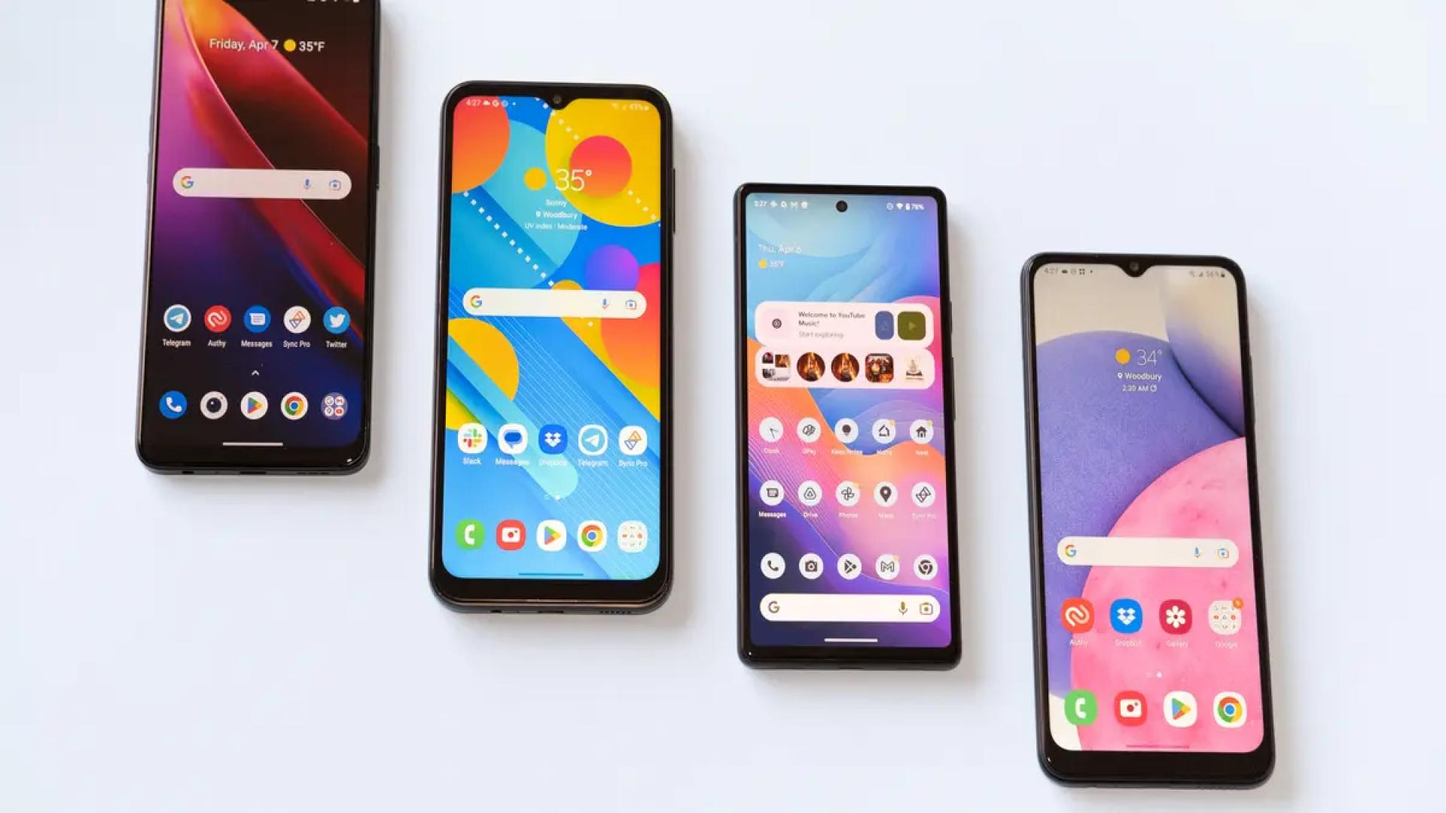phone: (1014, 246, 1282, 784), (425, 78, 681, 612), (131, 0, 384, 475), (731, 177, 964, 674)
